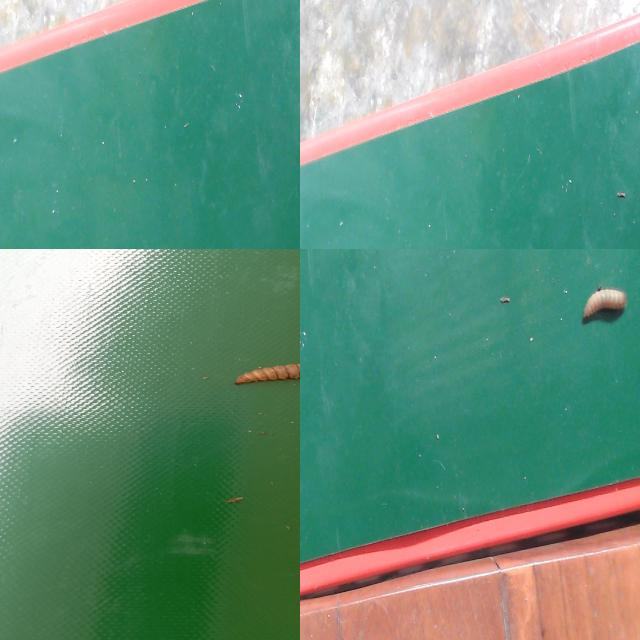Maggot: (580, 284, 628, 328), (234, 363, 300, 388)
